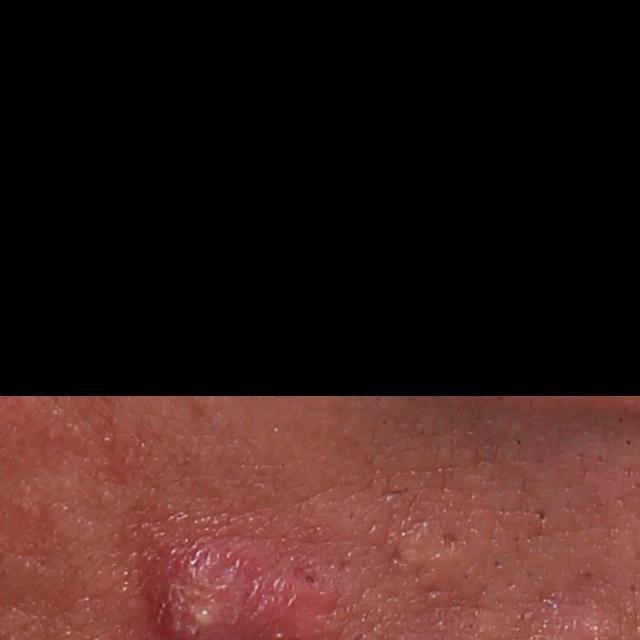hypertrophic_scar: (395, 529, 488, 592)
